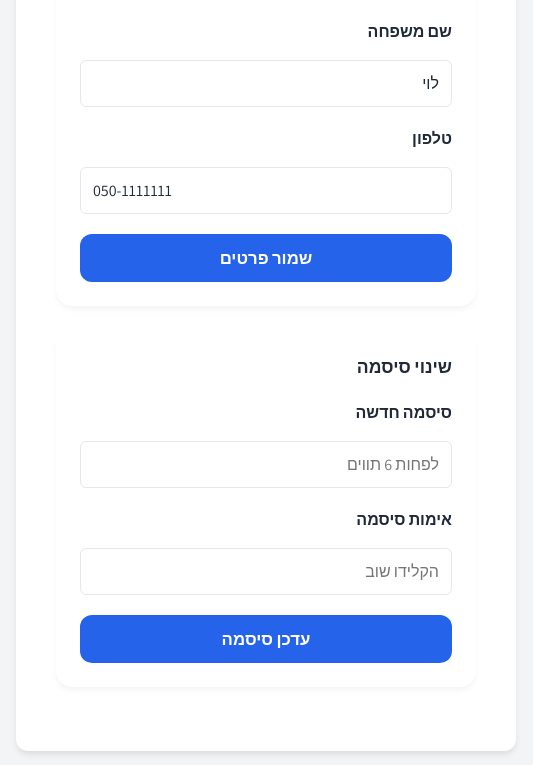
EmployeeProfilePage › updates password via supabase auth
(page scrolled)
Type "secret1" into the password field labelled "סיסמה חדשה" at (266, 464), box [80,441,452,488]
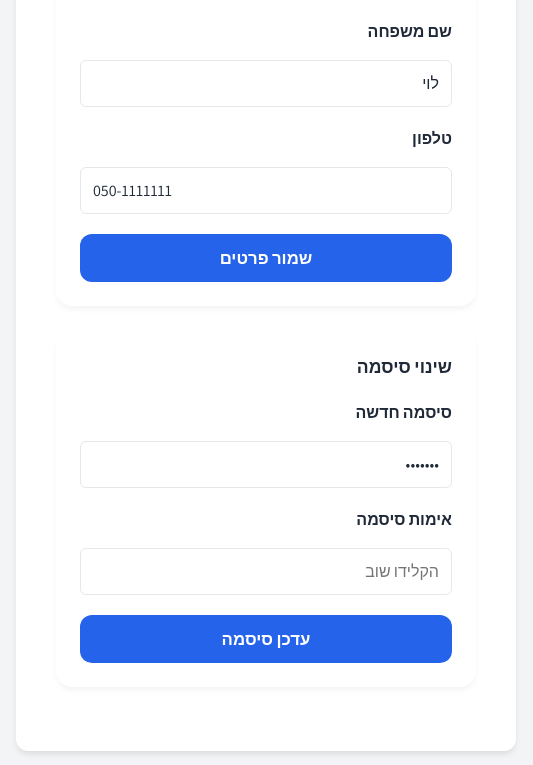
Type "secret1" into the password field labelled "אימות סיסמה" at (266, 571), box [80,548,452,595]
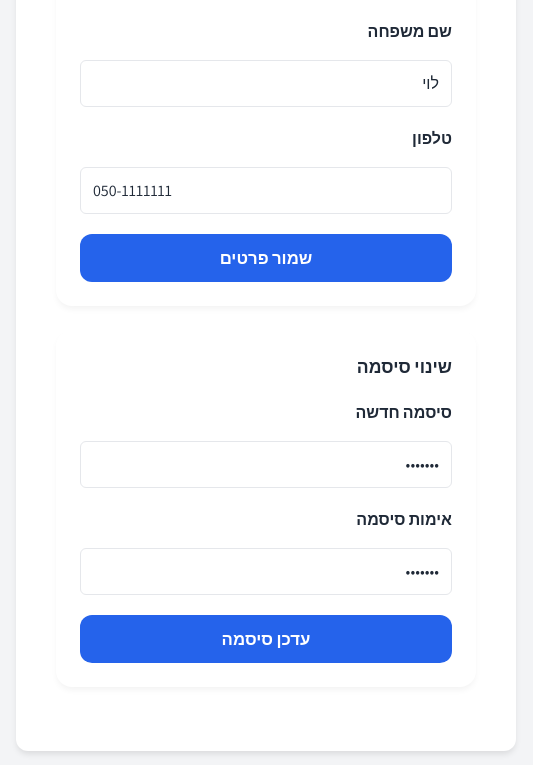
Click the button "עדכן סיסמה" at (266, 639), box [80,615,452,663]
(page scrolled)
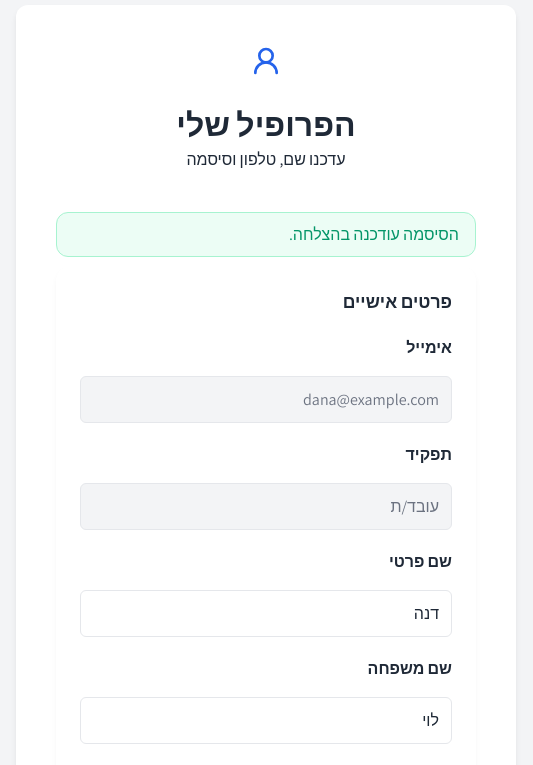
Expected: the text "הסיסמה עודכנה בהצלחה." is shown, [56,212,476,257]
